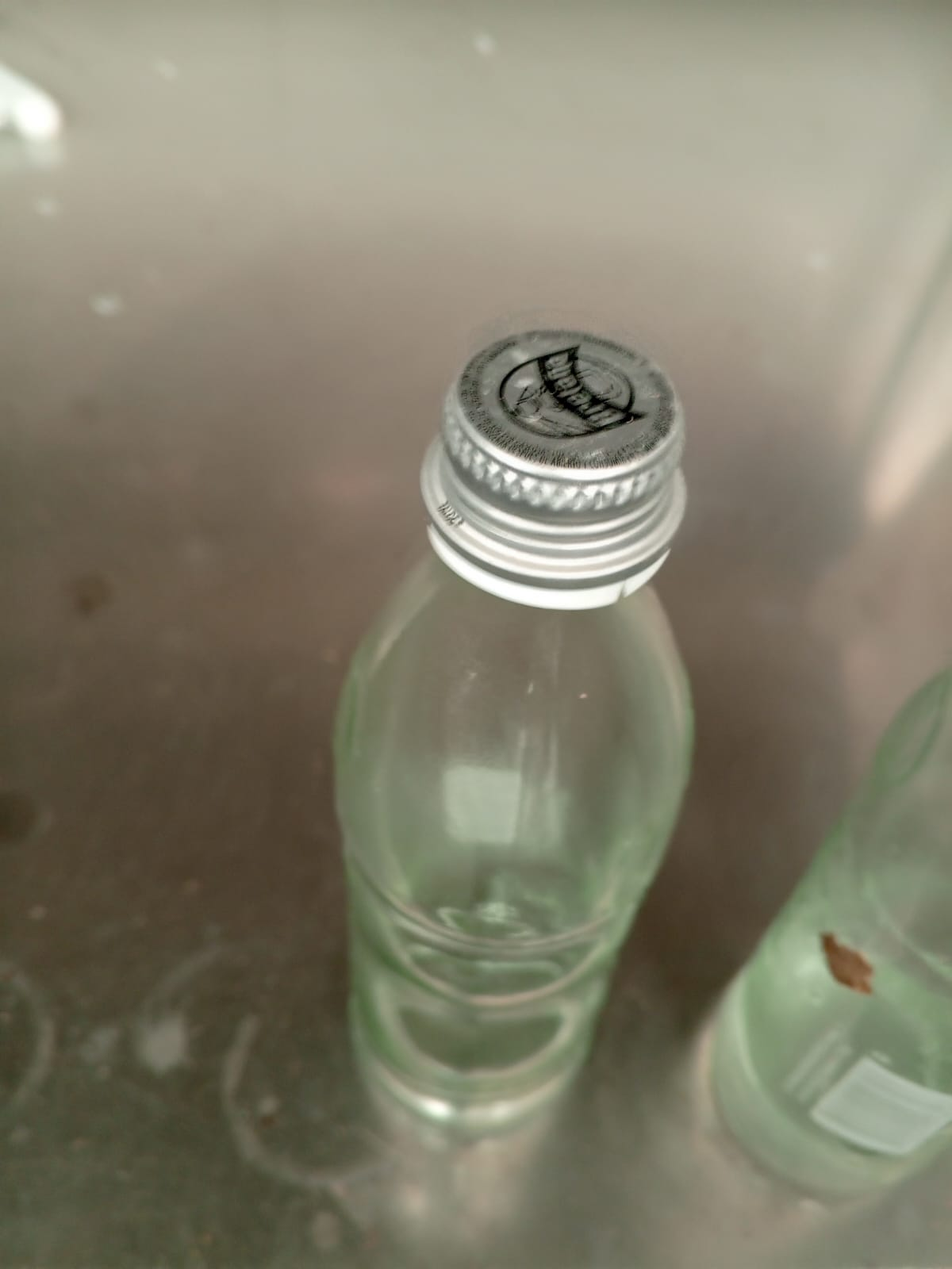Metal: (416, 331, 690, 565)
Vidrio: (333, 570, 698, 1127), (713, 669, 952, 1205)
